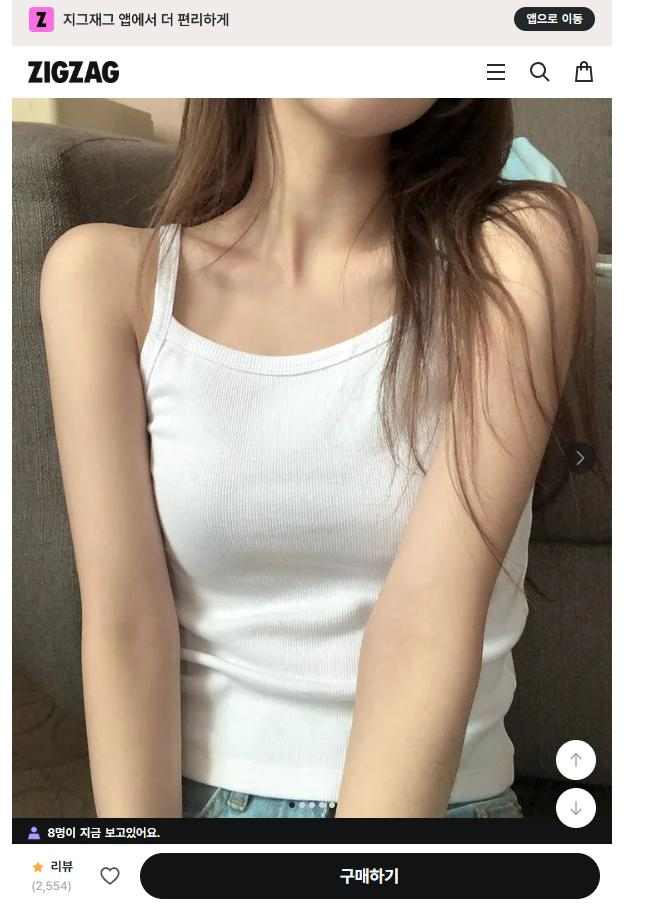button: (149, 852, 590, 900), (508, 10, 594, 29), (478, 56, 524, 90), (564, 791, 605, 818), (88, 866, 129, 886), (568, 66, 600, 91), (558, 744, 589, 765), (530, 63, 555, 84)
